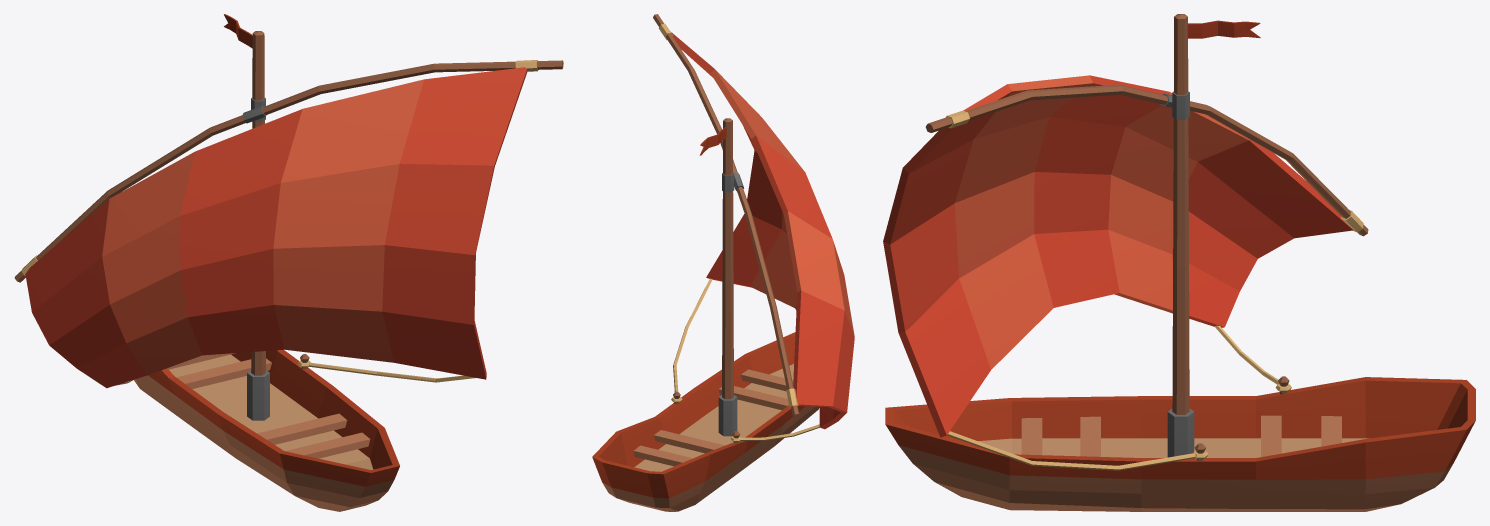
The model's file is sailboat-3.glb.
3 views of the same model, side by side, from view 1: azimuth 30°, elevation 25°; view 2: azimuth 150°, elevation 25°; view 3: azimuth 270°, elevation 25° (orthographic). The views are drawn at different scales.
Visible parts, largest first — view 1: sailboat 3; view 2: sailboat 3; view 3: sailboat 3.
Boxes of the visible parts, <box> form: sailboat 3: <box>14,14,563,511</box>; sailboat 3: <box>592,14,854,511</box>; sailboat 3: <box>883,14,1475,511</box>.
Size of the model in its own units: 5.13 by 5.5 by 6.01.
Materials: 1 (1 with a texture image).
